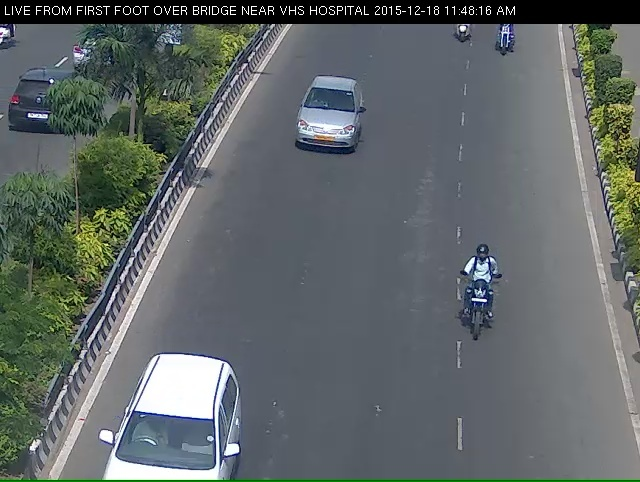Car: (109, 372, 233, 462), (289, 75, 360, 166)
Person: (459, 256, 496, 357), (489, 24, 518, 64)
